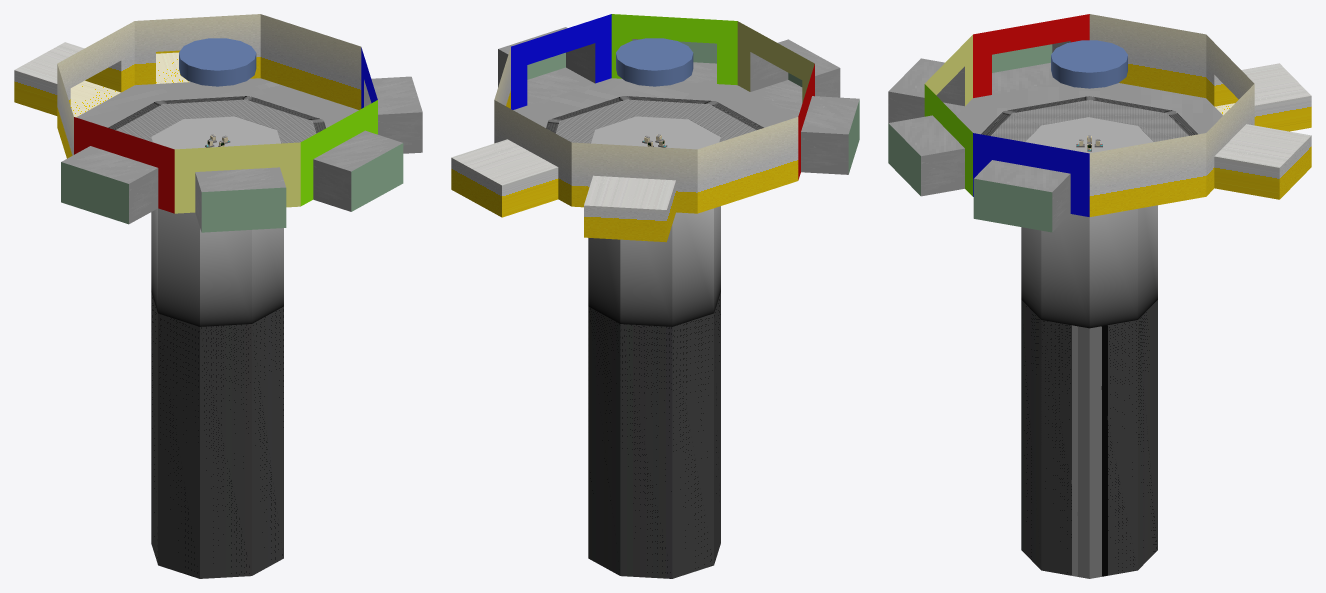
File: hubworld2.fbx
The picture shows the model from 3 angles, left to right: view 1: azimuth 30°, elevation 25°; view 2: azimuth 150°, elevation 25°; view 3: azimuth 270°, elevation 25°; orthographic projection.
Visible parts, largest first — view 1: Cylinder001, Cylinder003, elevator; view 2: Cylinder001, Cylinder003, elevator; view 3: Cylinder001, Cylinder003, elevator.
Part boxes in pixels (x1,y1,x2,y2): Cylinder001: (14, 14, 422, 578); Cylinder003: (179, 38, 256, 86); elevator: (151, 116, 280, 149); Cylinder001: (451, 14, 859, 578); Cylinder003: (616, 38, 693, 86); elevator: (591, 116, 720, 149); Cylinder001: (888, 14, 1311, 578); Cylinder003: (1051, 40, 1127, 88); elevator: (1025, 117, 1153, 153).
Bounding box in the file's own units: 554 × 750 × 582.
Materials: 21 (9 with a texture image).
